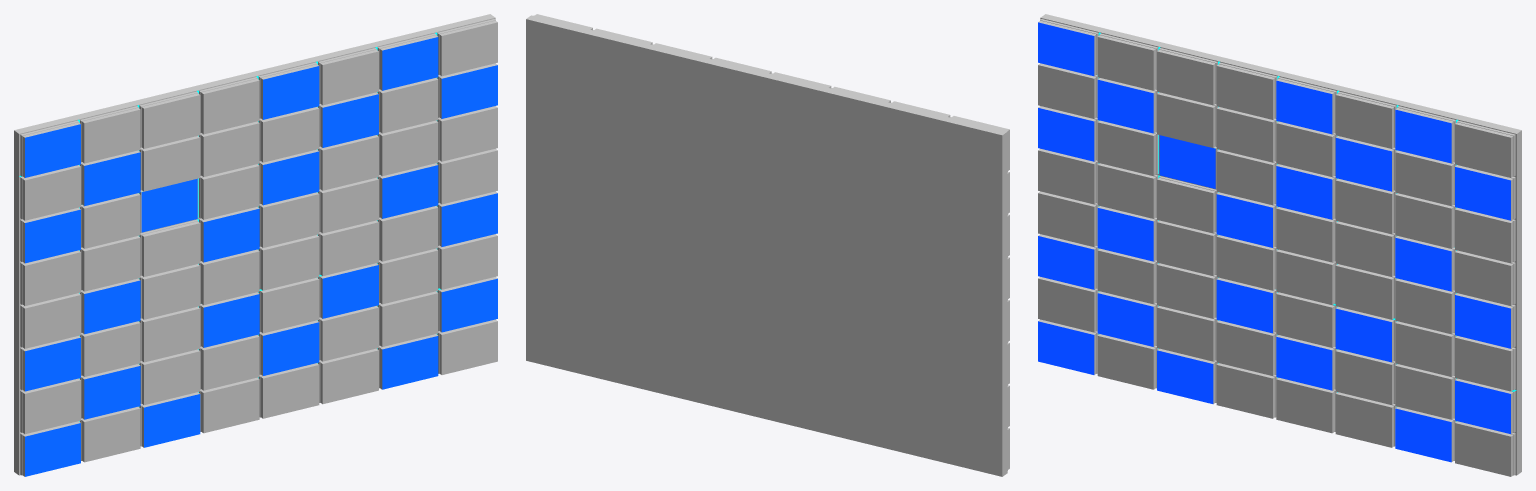
Rendered from Panel4.fbx.
3 renders of one model, left to right at view 1: azimuth 30°, elevation 25°; view 2: azimuth 150°, elevation 25°; view 3: azimuth 330°, elevation 25°, orthographic.
Parts seen in each view (by area): view 1: Cube; view 2: Cube; view 3: Cube.
Boxes of the visible parts, x1,y1,x2,y2 form: Cube: [14, 14, 497, 476]; Cube: [526, 14, 1009, 476]; Cube: [1038, 14, 1521, 476].
Size of the model in its own units: 2001 by 1371 by 67.07.
